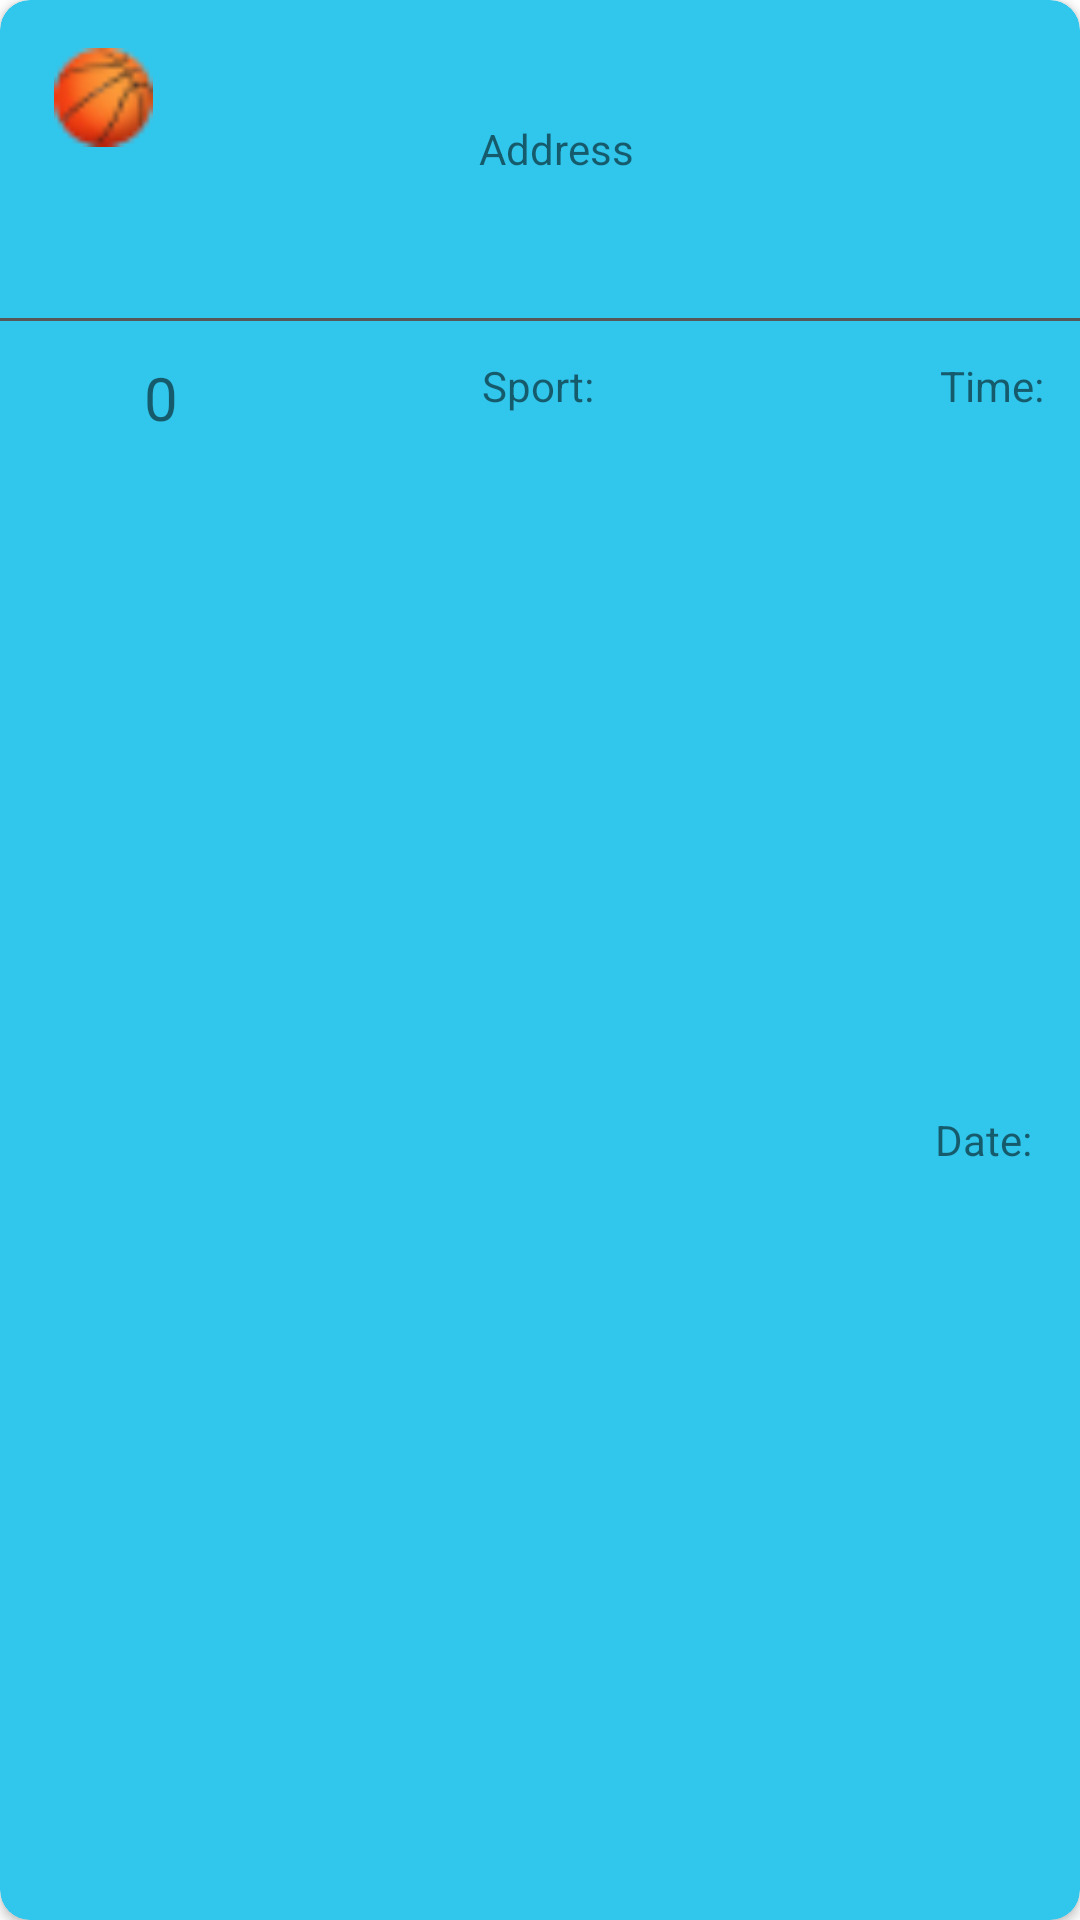

Icons on this 1080w x 1920h Android screen, each with the point to tap as [x,y]:
basketball ball: [103,97]
